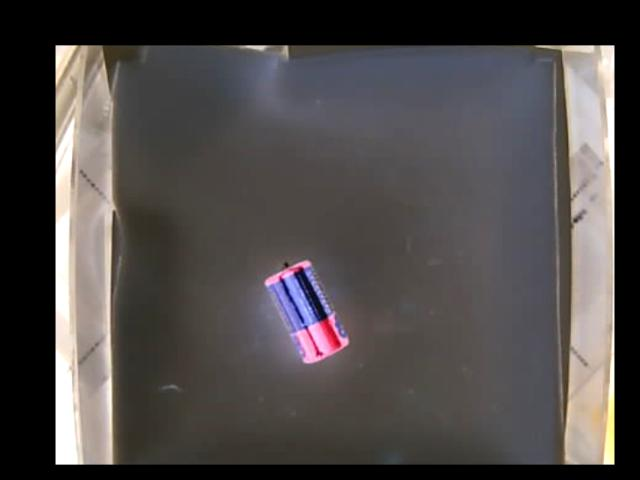Battery: (264, 258, 350, 363)
